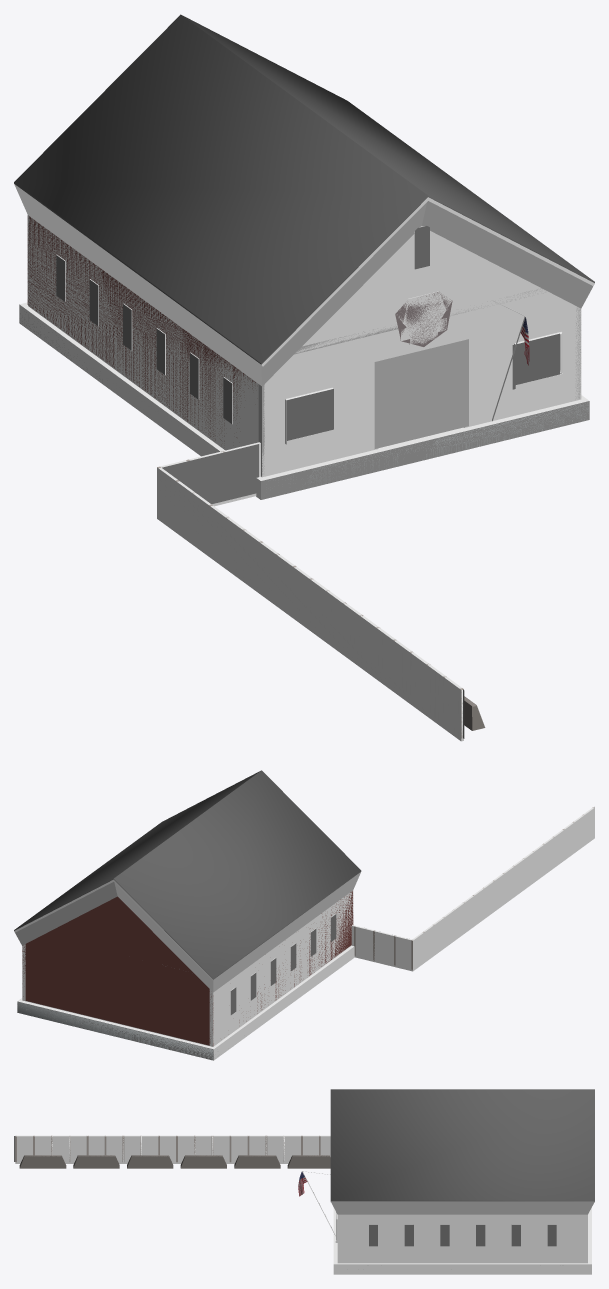
Rendered from eca_classic_dealership_barn.dae.
3 views of the same model, one above another, from view 1: azimuth 30°, elevation 25°; view 2: azimuth 150°, elevation 25°; view 3: azimuth 270°, elevation 25° (orthographic). The views are drawn at different scales.
Parts seen in each view (by area): view 1: eca_classic_dealership_barn_a1200, Colmesh_eca_classic_dealership_barn-1, eca_classic_dealership_barn_a50, eca_classic_dealership_barn_a300; view 2: eca_classic_dealership_barn_a1200, Colmesh_eca_classic_dealership_barn-1, eca_classic_dealership_barn_a50, eca_classic_dealership_barn_a300; view 3: eca_classic_dealership_barn_a1200, Colmesh_eca_classic_dealership_barn-1, eca_classic_dealership_barn_a50, eca_classic_dealership_barn_a300.
Boxes of the visible parts, <box> form: eca_classic_dealership_barn_a1200: <box>14,14,594,738</box>; Colmesh_eca_classic_dealership_barn-1: <box>14,184,592,741</box>; eca_classic_dealership_barn_a50: <box>27,215,581,738</box>; eca_classic_dealership_barn_a300: <box>20,303,589,738</box>; eca_classic_dealership_barn_a1200: <box>14,770,594,1059</box>; Colmesh_eca_classic_dealership_barn-1: <box>15,808,594,1060</box>; eca_classic_dealership_barn_a50: <box>22,807,594,1046</box>; eca_classic_dealership_barn_a300: <box>17,807,594,1060</box>; eca_classic_dealership_barn_a1200: <box>15,1089,594,1262</box>; Colmesh_eca_classic_dealership_barn-1: <box>15,1135,594,1274</box>; eca_classic_dealership_barn_a50: <box>14,1136,556,1246</box>; eca_classic_dealership_barn_a300: <box>15,1135,335,1235</box>.
Bounding box in the file's own units: 14.81 × 32.52 × 8.8.
